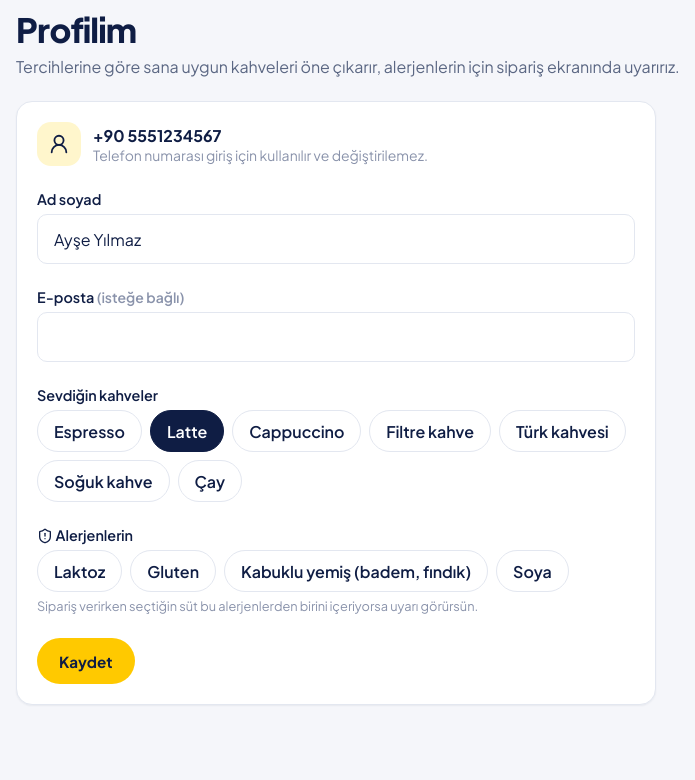
Test case: ProfilePage (case 3.1) › tercih ve alerjenleri kaydeder, store güncellenir
Click the button "Türk kahvesi": [562, 431] box [499,410,626,452]
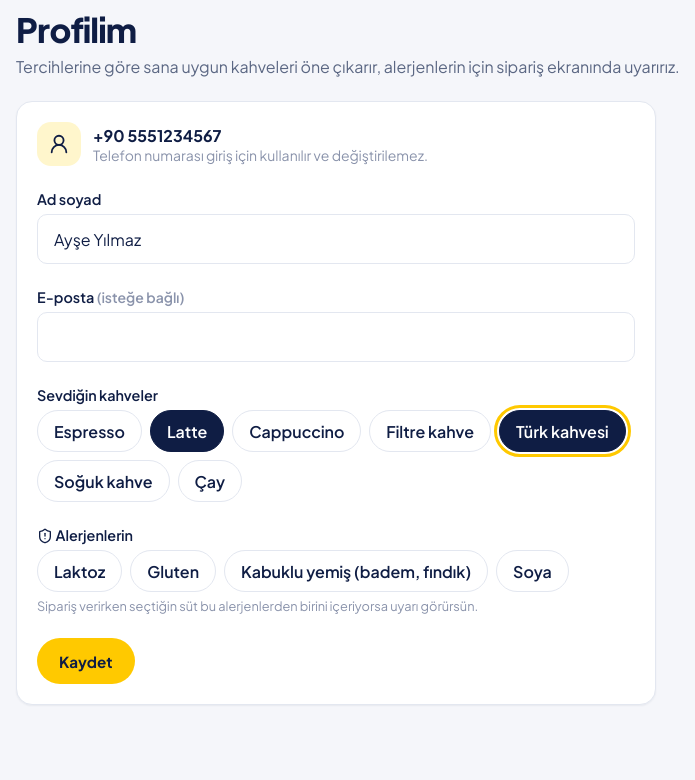
Click the button "Laktoz": [80, 571] box [37,550,122,592]
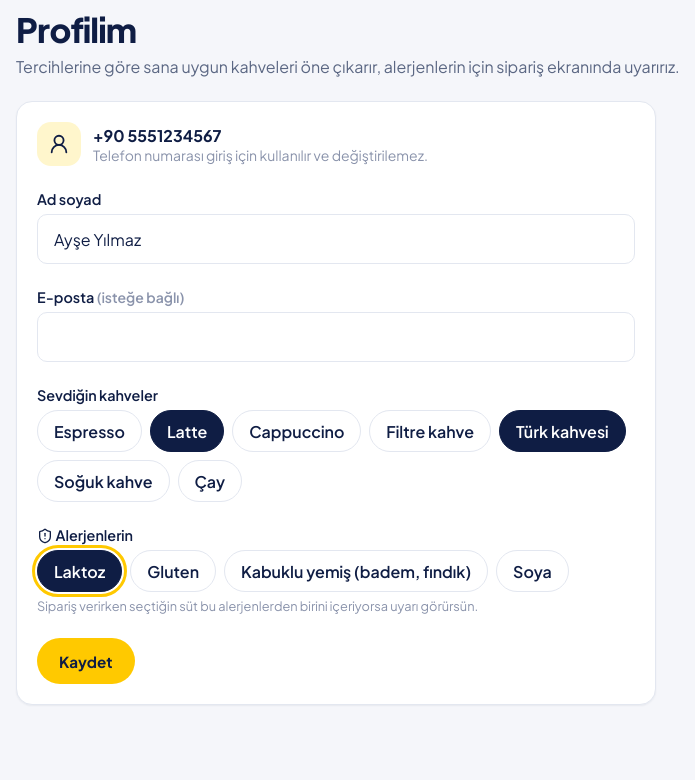
Click the button "Kaydet": [86, 661] box [37,638,134,684]
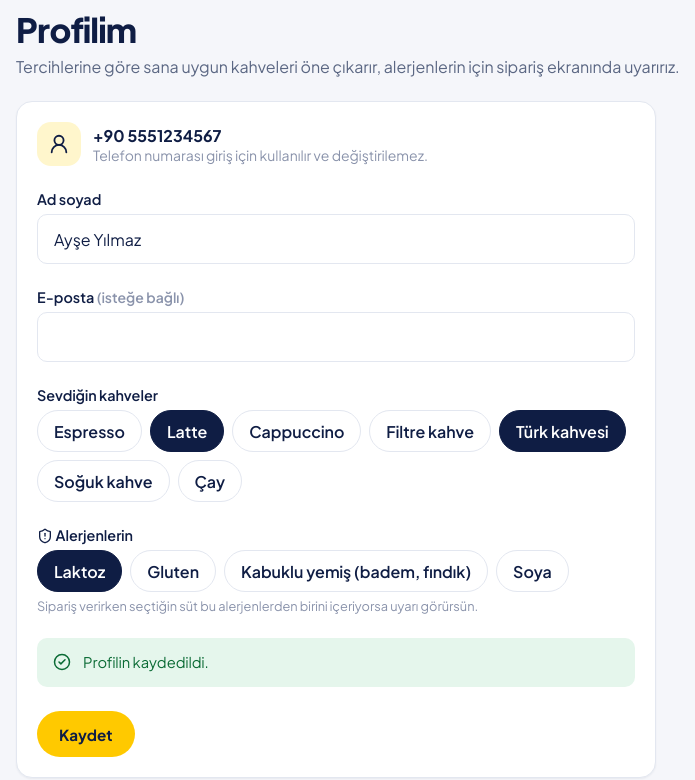
Result: the text "Profilin kaydedildi." is shown at [83,652,209,673]
